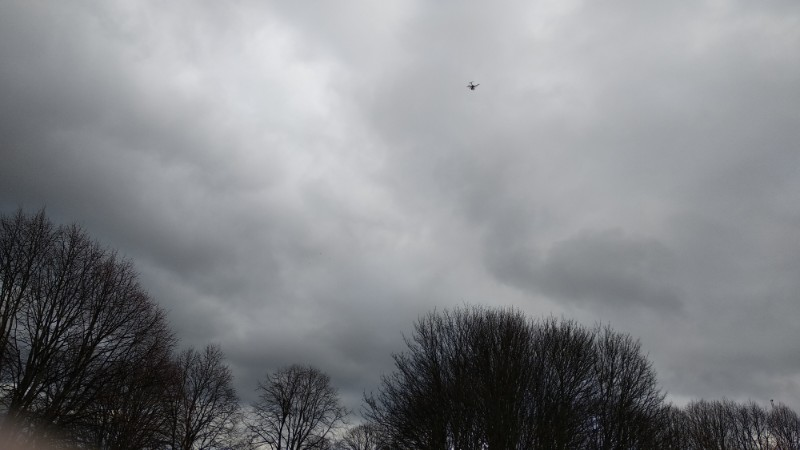drone: (466, 81, 480, 90)
